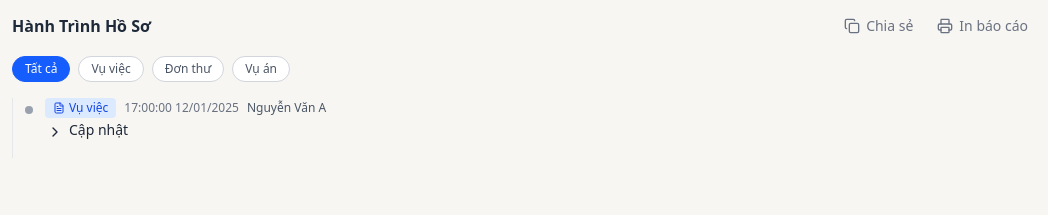
Test: HoSoJourney › TC-J15: FIELD_UPDATE is collapsed by default and expands on chevron click
The width and height of the screenshot is (1048, 215).
// Click chevron to expand
Click the button with test id "expand-audit-002".
click(55, 132)  # box [45,122,65,142]
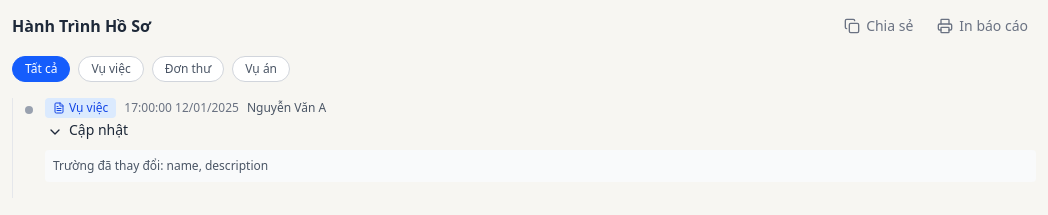
Now the element with test id "field-diff-audit-002" is shown, box [45,150,1036,182]
